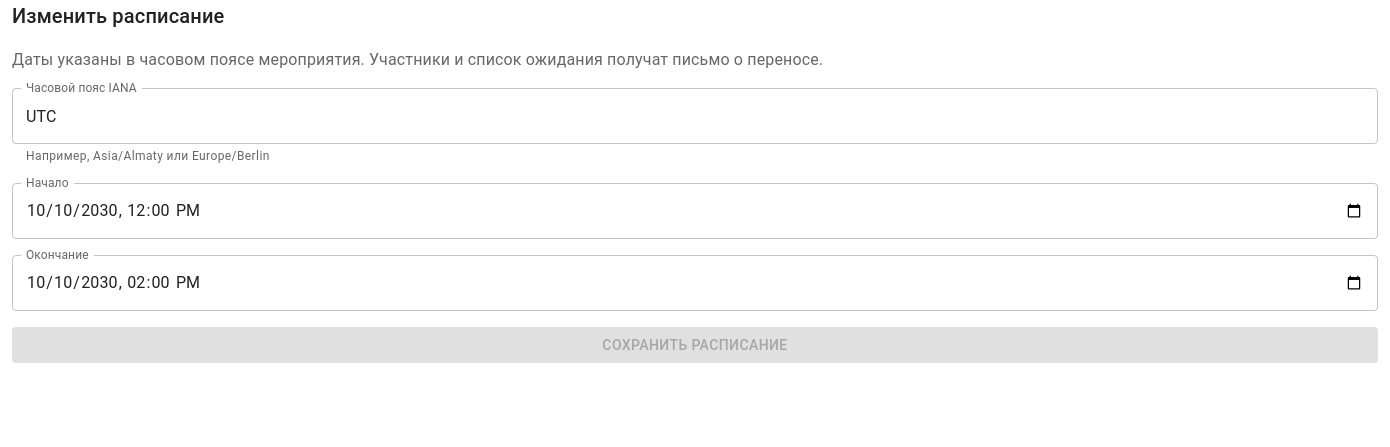
Test case: disables pending form, prevents duplicate submission and keeps input after error
Replace the text in the field labelled "Окончание" with "2030-10-10T15:00". click: (695, 283)
box: left=12, top=255, right=1378, bottom=311
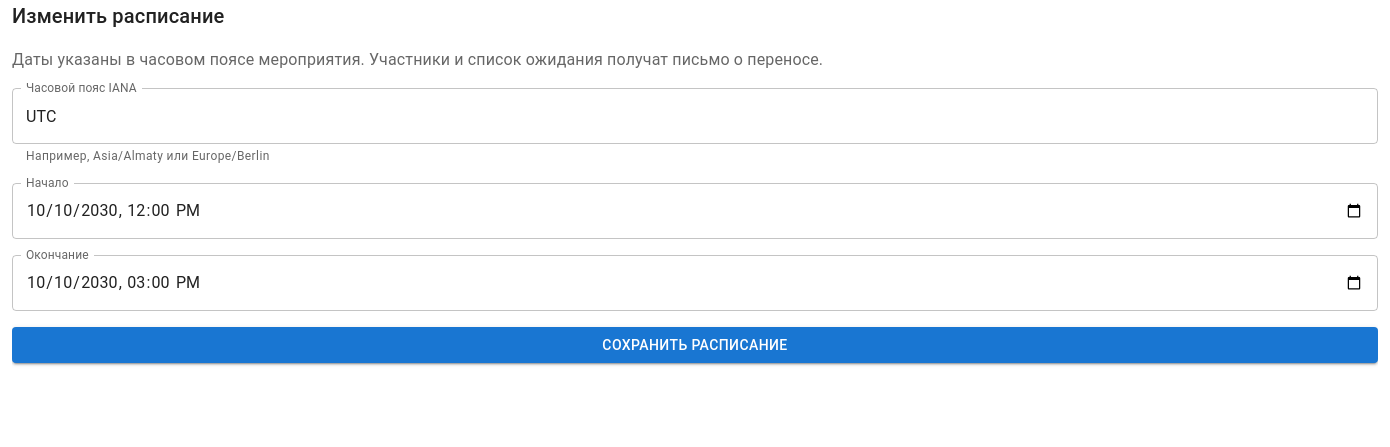
Click the button "Сохранить расписание". click: click(695, 345)
box: left=12, top=327, right=1378, bottom=363
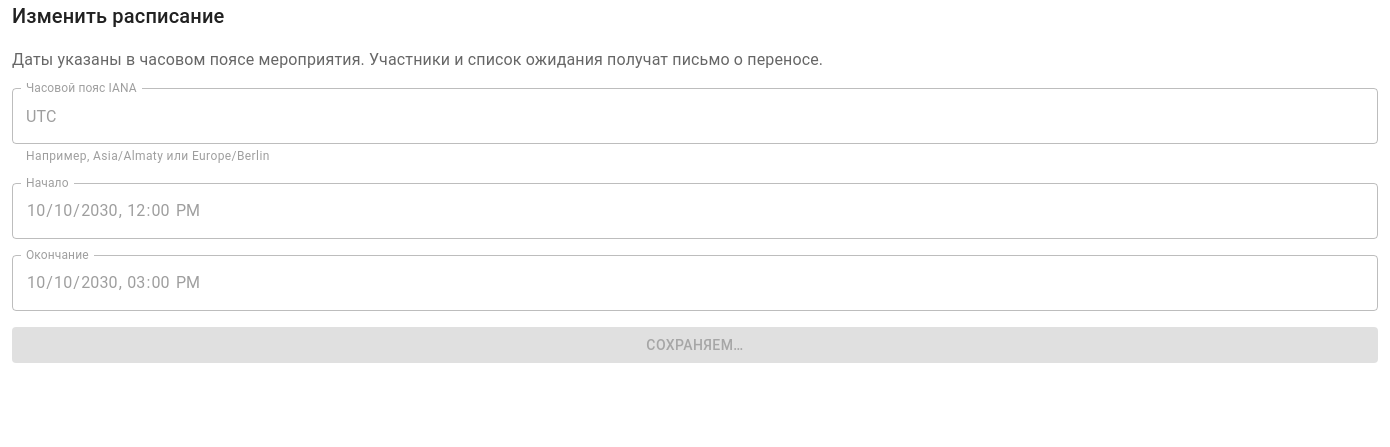
Expected: the field labelled "Начало" is disabled, left=12, top=183, right=1378, bottom=239
Submit the form named "Начало"
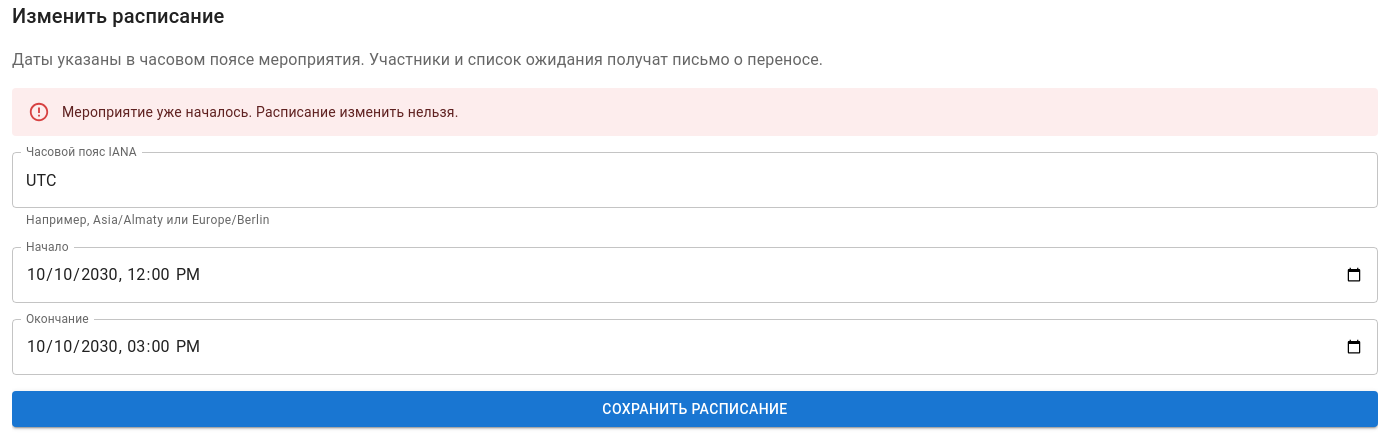
Expected: the message shows "уже началось", left=62, top=104, right=458, bottom=120
